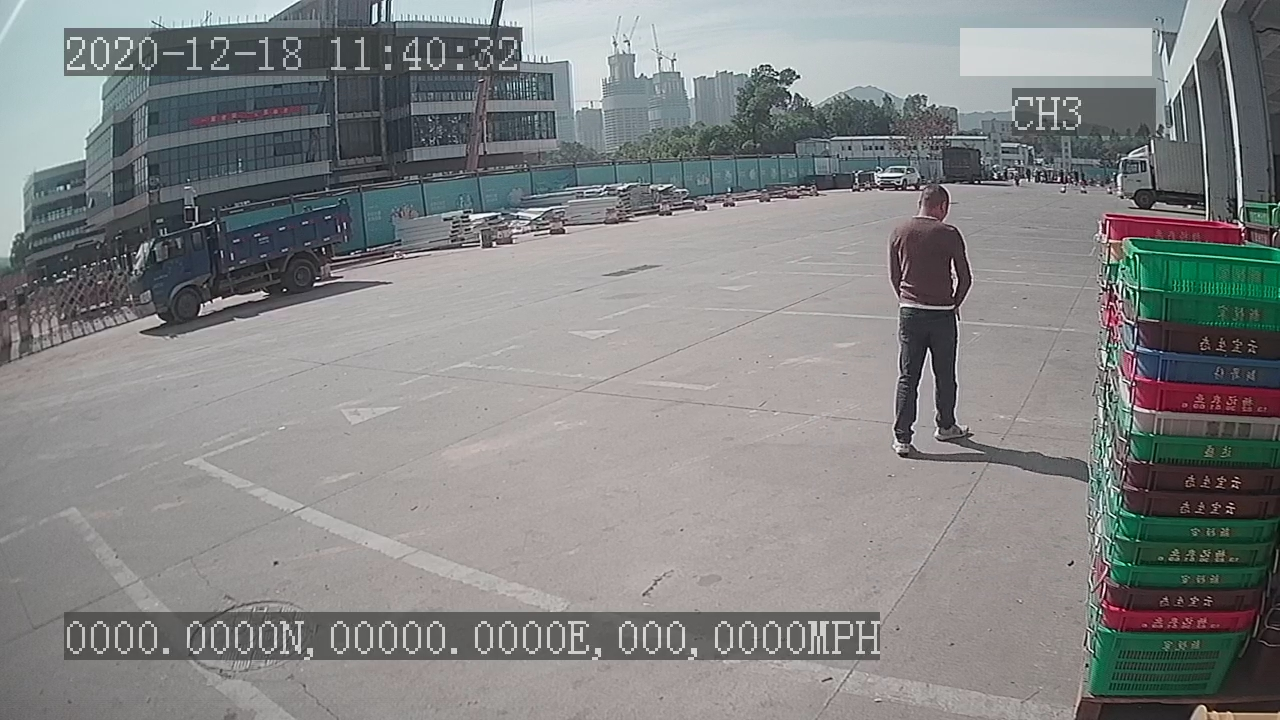person: (881, 184, 979, 452)
